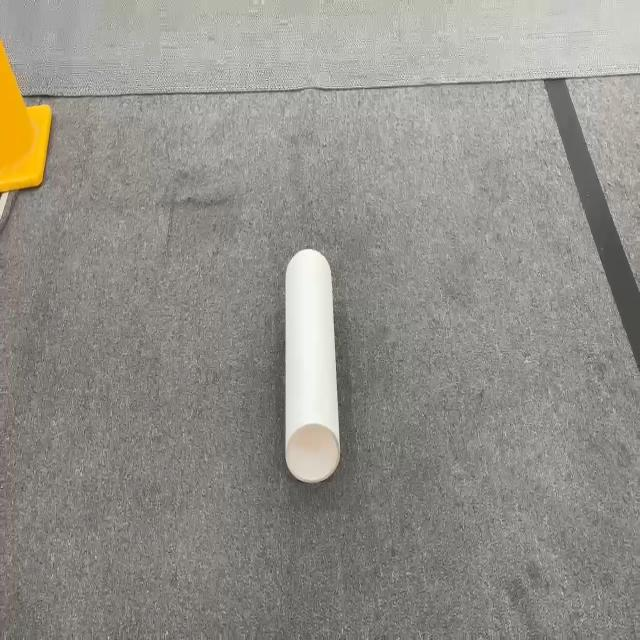coral: (283, 247, 341, 484)
